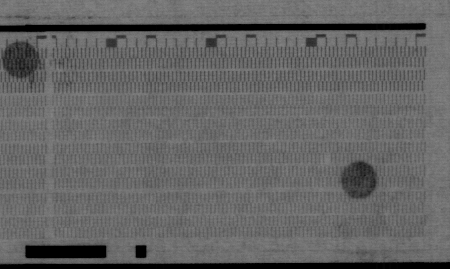Broken hole: (322, 151, 333, 164)
